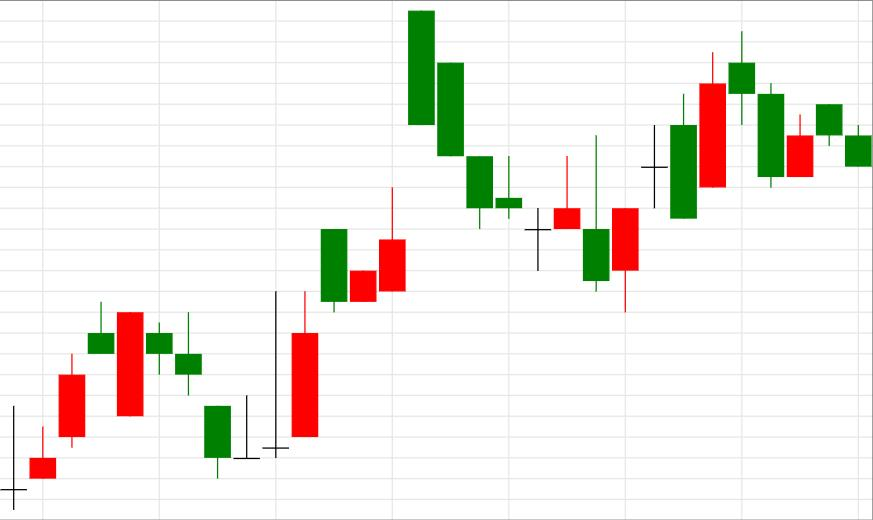three_black_crows_fall: (262, 10, 493, 458)
